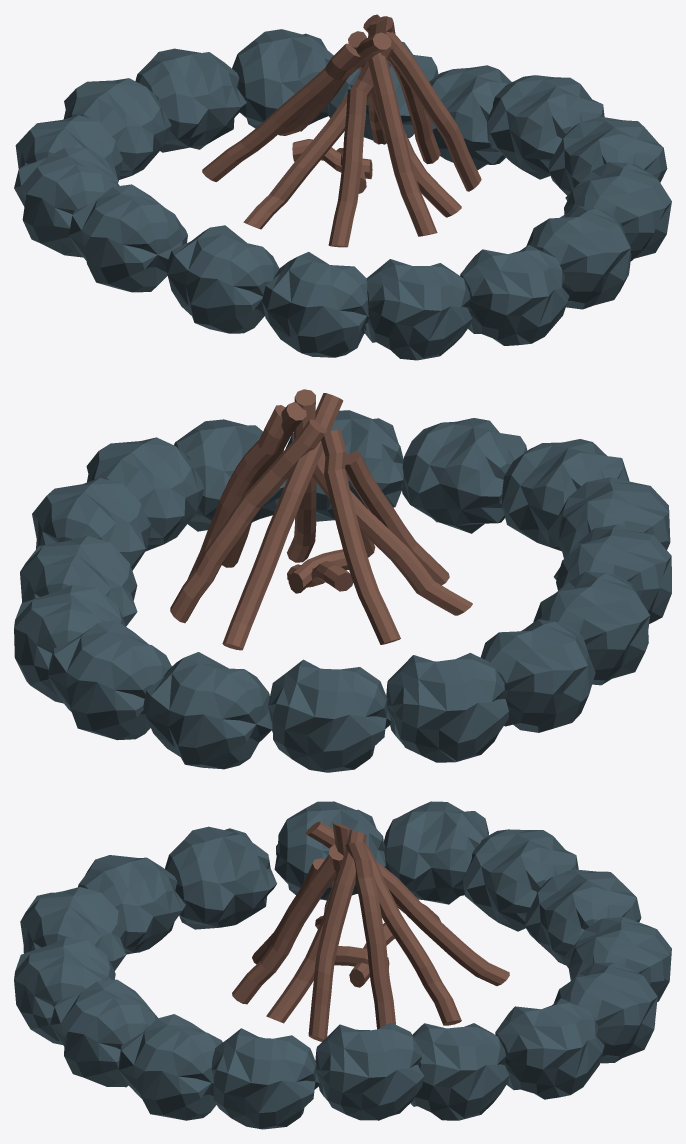
The model's file is FirePit.fbx.
3 renders of one model, top to bottom at view 1: azimuth 30°, elevation 25°; view 2: azimuth 150°, elevation 25°; view 3: azimuth 270°, elevation 25°, orthographic. The views are drawn at different scales.
Visible parts, largest first — view 1: mesh_1822367077, mesh_284143619, mesh_1181519402, mesh_667609604, mesh_1135006535, mesh_1569799670, mesh_765686378, mesh_416835628, mesh_1353237726, mesh_1102130088, mesh_694932781, mesh_719577002 (+14 smaller); view 2: mesh_765686378, mesh_694932781, mesh_1791294589, mesh_1135006535, mesh_1102130088, mesh_1353237726, mesh_1822367077, mesh_1181519402, mesh_1306355342, mesh_1569799670, mesh_1608776188, mesh_667609604 (+14 smaller); view 3: mesh_1306355342, mesh_1569799670, mesh_667609604, mesh_1608776188, mesh_719577002, mesh_1353237726, mesh_1247288564, mesh_1791294589, mesh_416835628, mesh_694932781, mesh_1102130088, mesh_284143619 (+13 smaller).
Boxes of the visible parts, x1,y1,x2,y2 form: mesh_1822367077: (69,184,187,292); mesh_284143619: (262,252,368,357); mesh_1181519402: (364,259,471,360); mesh_667609604: (166,225,279,333); mesh_1135006535: (460,245,569,345); mesh_1569799670: (487,75,604,179); mesh_765686378: (135,48,246,152); mesh_416835628: (526,206,631,309); mesh_1353237726: (14,147,119,257); mesh_1102130088: (232,29,333,131); mesh_694932781: (64,78,171,179); mesh_719577002: (564,162,671,261); mesh_765686378: (143,652,272,769); mesh_694932781: (268,659,391,772); mesh_1791294589: (386,653,508,762); mesh_1135006535: (402,418,527,533); mesh_1102130088: (48,620,171,740); mesh_1353237726: (480,619,595,732); mesh_1822367077: (533,571,650,685); mesh_1181519402: (502,439,629,551); mesh_1306355342: (86,437,203,551); mesh_1569799670: (32,478,151,570); mesh_1608776188: (14,585,126,703); mesh_667609604: (554,524,671,623); mesh_1306355342: (211,1028,319,1129); mesh_1569799670: (315,1022,424,1120); mesh_667609604: (165,826,276,929); mesh_1608776188: (495,998,604,1099); mesh_719577002: (118,1014,222,1120); mesh_1353237726: (384,801,488,904); mesh_1247288564: (410,1023,509,1120); mesh_1791294589: (463,829,578,931); mesh_416835628: (50,979,158,1087); mesh_694932781: (525,869,641,965); mesh_1102130088: (554,962,657,1063); mesh_284143619: (78,855,185,954).
Bounding box in the file's own units: 62.46 × 24.95 × 66.81.
